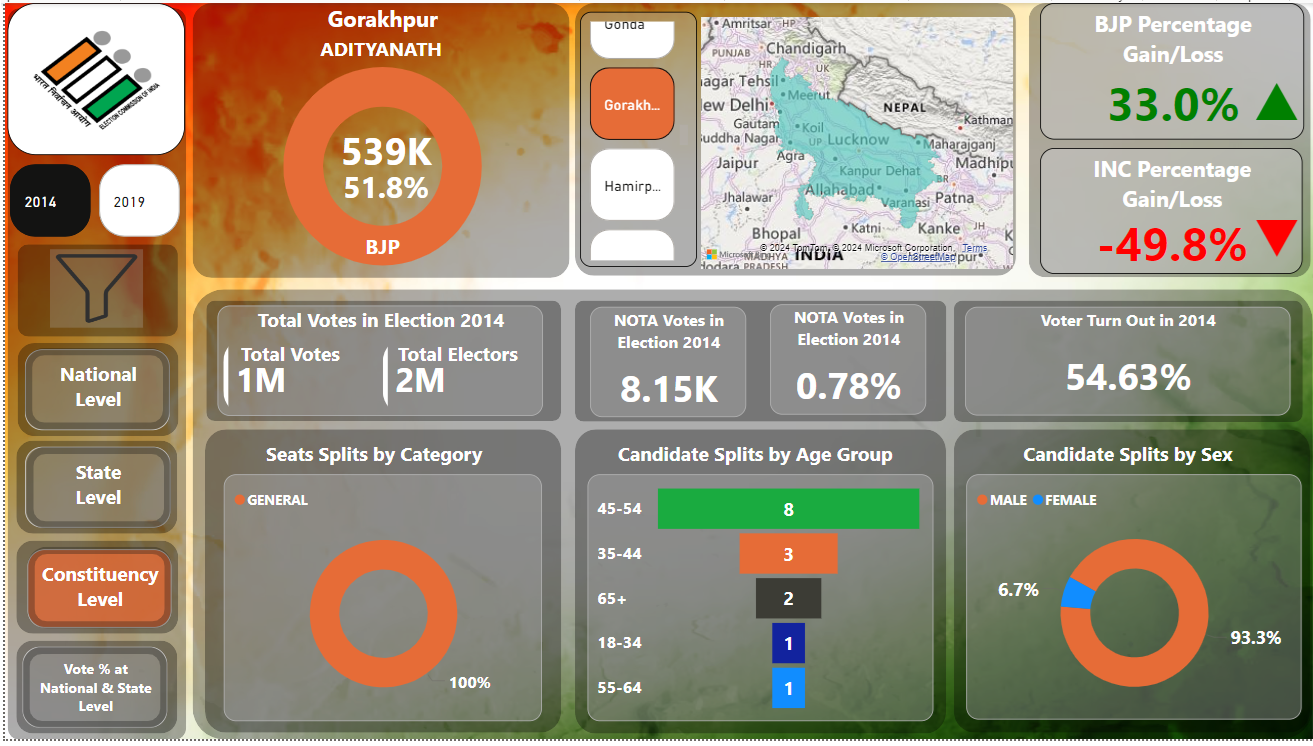

Layout of this report page (visuals, bound fields, positions):
{"tool":"powerbi","page":{"name":"Constituency Level","canvas":[1280,720],"ordinal":3},"visuals":[{"type":"image","box":[0,0,1280.3,720.2],"z":0},{"type":"donutChart","fields":{"Category":["CombinedElectionData.Party"],"Y":["CountNonNull(CombinedElectionData.IsWinningCandidate)"]},"box":[116,0,506.9,290.9],"z":0,"group":"g2"},{"type":"shape","box":[11.6,623.2,157.6,91.1],"z":0,"group":"g1"},{"type":"textbox","box":[17.4,629,141.7,79.5],"z":500,"group":"g1"},{"type":"card","title":"Total Votes","fields":{"Values":["CombinedElectionData.MaxVotebyconstituency"]},"box":[320.2,119.1,105.5,51.1],"z":1000,"group":"g2"},{"type":"shape","box":[183.9,280.3,1095.8,440.4],"z":1000},{"type":"actionButton","box":[17.4,629,141.7,79.5],"z":1000,"group":"g1"},{"type":"card","title":"Winner Card","fields":{"Values":["Min(CombinedElectionData.Candidate)"]},"box":[141,0,455.1,92.8],"z":1500,"group":"g2"},{"type":"shape","box":[1000.9,0,275.8,268.4],"z":2000},{"type":"shape","box":[557.6,0,431.5,266.9],"z":3000},{"type":"shape","box":[183.8,0,369,268.9],"z":4000},{"type":"shape","box":[195.2,416.5,348.5,297],"z":5000},{"type":"shape","box":[196.7,290.7,347,118],"z":6000},{"type":"shape","box":[558.2,416.5,363,297.9],"z":7000},{"type":"shape","box":[3,4.4,175,716.2],"z":8000},{"type":"shape","box":[11.9,235.8,157.2,90.5],"z":9000},{"type":"shape","box":[12.4,332.2,157.6,91.2],"z":10000},{"type":"donutChart","title":"Seats in 2019","fields":{"Category":["CombinedElectionData.Category"],"Y":["CountNonNull(CombinedElectionData.Category)"]},"box":[213.5,461.2,311.4,241.7],"z":11000},{"type":"funnel","title":"Seats in 2019","fields":{"Category":["CombinedElectionData.Age Bin"],"Y":["CountNonNull(CombinedElectionData.Age Bin)"]},"box":[569.7,461.3,338,241.5],"z":12000},{"type":"textbox","box":[208.2,423.7,306.6,49.2],"z":13000},{"type":"textbox","box":[581.3,423.7,306.6,49.2],"z":14000},{"type":"shape","box":[928.3,416.5,348.5,297],"z":15000},{"type":"donutChart","title":"Seats in 2019","fields":{"Category":["CombinedElectionData.Sex"],"Y":["CountNonNull(CombinedElectionData.Sex)"]},"box":[940.1,461,328,240.2],"z":16000},{"type":"textbox","box":[945.7,423.7,306.6,49.2],"z":17000},{"type":"cardVisual","fields":{"Data":["Sum(CombinedElectionData.Votes)","CombinedElectionData.Total_Electors"]},"box":[208.2,296.4,318.1,108],"z":18000},{"type":"textbox","box":[366,325.4,154.7,49.2],"z":19000},{"type":"textbox","box":[202,325.4,154.7,49.2],"z":20000},{"type":"group","id":"g1","title":"Vote % at National & State Level","box":[11.6,623.2,157.6,91.1],"z":21000},{"type":"shape","box":[557.6,290.6,363.3,118.6],"z":22000},{"type":"card","fields":{"Values":["Sum(CombinedElectionData.Votes)"]},"box":[572.4,296.6,152.7,108.2],"z":23000},{"type":"card","fields":{"Values":["CombinedElectionData.NOTAPercentage"]},"box":[748.9,295.1,152.7,108.2],"z":24000},{"type":"image","box":[2.9,0,173.5,148.9],"z":25000},{"type":"image","box":[44.6,240.9,91,76.7],"z":26000},{"type":"shape","box":[928.6,290.5,341.5,119],"z":27000},{"type":"textbox","box":[19.7,339,141.9,78.8],"z":28000},{"type":"shape","box":[10.8,428,157.6,91.2],"z":29000},{"type":"shape","box":[11.4,526,158.5,91.3],"z":30000},{"type":"textbox","box":[20.1,434.2,142.2,78.8],"z":31000},{"type":"textbox","box":[22.2,533.8,140.9,77.1],"z":32000},{"type":"actionButton","box":[22.2,532,141.1,80],"z":33000},{"type":"actionButton","box":[20.8,434.2,141.7,80],"z":34000},{"type":"actionButton","box":[19,338,142,80],"z":35000},{"type":"actionButton","title":"Slicer Open","box":[44.6,240.9,91,76.7],"z":36000},{"type":"card","fields":{"Values":["CombinedElectionData.Voter Turnout ratio"]},"box":[939.5,296.7,318,106.6],"z":38000},{"type":"group","id":"g2","title":"Group 2","box":[116,0,506.9,290.9],"z":40000},{"type":"advancedSlicerVisual","fields":{"Values":["CombinedElectionData.Year"]},"box":[0,152.7,176.5,81.6],"z":41000},{"type":"card","title":"BJP Percentage Gain/Loss","fields":{"Values":["CombinedElectionData.PercentageDifference"]},"box":[1012,0,258.8,133.9],"z":42000},{"type":"card","fields":{"Values":["CombinedElectionData.Icon_C"]},"box":[1213.6,58,62.5,69.6],"z":43000},{"type":"card","title":"INC Percentage Gain/Loss","fields":{"Values":["CombinedElectionData.PercentageDifference"]},"box":[1012,142,257,123.1],"z":44000},{"type":"card","fields":{"Values":["CombinedElectionData.Icon_C"]},"box":[1208.9,193.8,62.2,66.5],"z":45000},{"type":"filledMap","fields":{"Category":["CombinedElectionData.State"],"Series":["CombinedElectionData.Constituency"]},"box":[675.7,8.5,314.9,257],"z":46000},{"type":"advancedSlicerVisual","fields":{"Values":["CombinedElectionData.Constituency"]},"box":[562.2,9,114.2,249.9],"z":47000},{"type":"card","fields":{"Values":["CombinedElectionData.PercentageVotesCandidate"]},"box":[311.5,153.2,122.6,54.5],"z":48000}]}

Visuals, with their boxes in screenshot pixels (x1, y1, x2, y2), scaled from the page's 1280x720 canvas onto the 1313x746 screenshot:
image: detection(0, 0, 1312, 745)
donutChart - CombinedElectionData.Party x CountNonNull(CombinedElectionData.IsWinningCandidate): detection(119, 0, 639, 301)
shape: detection(12, 646, 174, 740)
textbox: detection(18, 652, 163, 734)
"Total Votes" card: detection(328, 123, 437, 176)
shape: detection(189, 290, 1312, 745)
actionButton: detection(18, 652, 163, 734)
"Winner Card" card: detection(145, 0, 611, 96)
shape: detection(1027, 0, 1310, 278)
shape: detection(572, 0, 1015, 277)
shape: detection(189, 0, 567, 279)
shape: detection(200, 432, 558, 739)
shape: detection(202, 301, 558, 423)
shape: detection(573, 432, 945, 740)
shape: detection(3, 5, 183, 745)
shape: detection(12, 244, 173, 338)
shape: detection(13, 344, 174, 439)
"Seats in 2019" donutChart: detection(219, 478, 538, 728)
"Seats in 2019" funnel: detection(584, 478, 931, 728)
textbox: detection(214, 439, 528, 490)
textbox: detection(596, 439, 911, 490)
shape: detection(952, 432, 1310, 739)
"Seats in 2019" donutChart: detection(964, 478, 1301, 727)
textbox: detection(970, 439, 1285, 490)
cardVisual - Sum(CombinedElectionData.Votes) x CombinedElectionData.Total_Electors: detection(214, 307, 540, 419)
textbox: detection(375, 337, 534, 388)
textbox: detection(207, 337, 366, 388)
"Vote % at National & State Level" group: detection(12, 646, 174, 740)
shape: detection(572, 301, 945, 424)
card - Sum(CombinedElectionData.Votes): detection(587, 307, 744, 419)
card - CombinedElectionData.NOTAPercentage: detection(768, 306, 925, 418)
image: detection(3, 0, 181, 154)
image: detection(46, 250, 139, 329)
shape: detection(953, 301, 1303, 424)
textbox: detection(20, 351, 166, 433)
shape: detection(11, 443, 173, 538)
shape: detection(12, 545, 174, 640)
textbox: detection(21, 450, 166, 532)
textbox: detection(23, 553, 167, 633)
actionButton: detection(23, 551, 168, 634)
actionButton: detection(21, 450, 167, 533)
actionButton: detection(19, 350, 165, 433)
"Slicer Open" actionButton: detection(46, 250, 139, 329)
card - CombinedElectionData.Voter Turnout ratio: detection(964, 307, 1290, 418)
"Group 2" group: detection(119, 0, 639, 301)
advancedSlicerVisual - CombinedElectionData.Year: detection(0, 158, 181, 243)
"BJP Percentage Gain/Loss" card: detection(1038, 0, 1304, 139)
card - CombinedElectionData.Icon_C: detection(1245, 60, 1309, 132)
"INC Percentage Gain/Loss" card: detection(1038, 147, 1302, 275)
card - CombinedElectionData.Icon_C: detection(1240, 201, 1304, 270)
filledMap - CombinedElectionData.State x CombinedElectionData.Constituency: detection(693, 9, 1016, 275)
advancedSlicerVisual - CombinedElectionData.Constituency: detection(577, 9, 694, 268)
card - CombinedElectionData.PercentageVotesCandidate: detection(320, 159, 445, 215)
